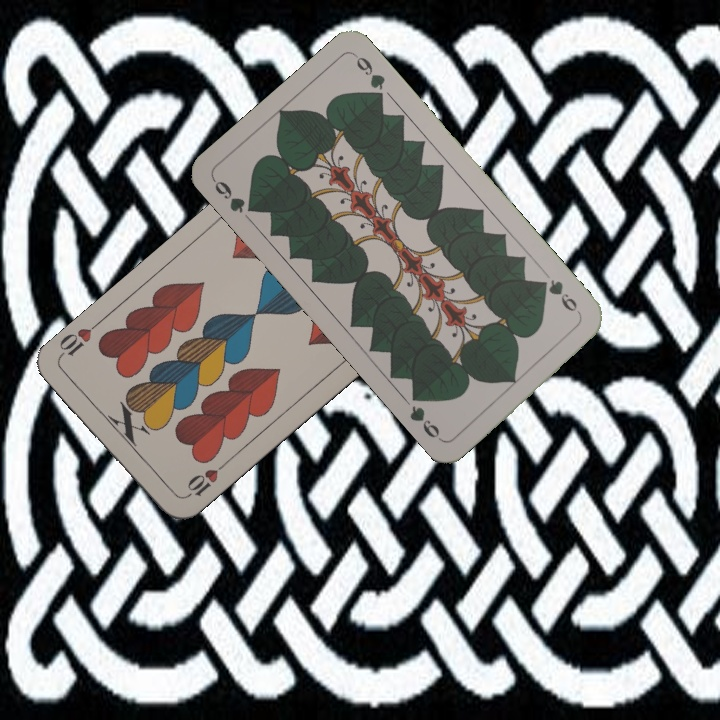G9: (535, 275, 584, 319), (209, 175, 261, 216)
H10: (179, 459, 228, 502)
